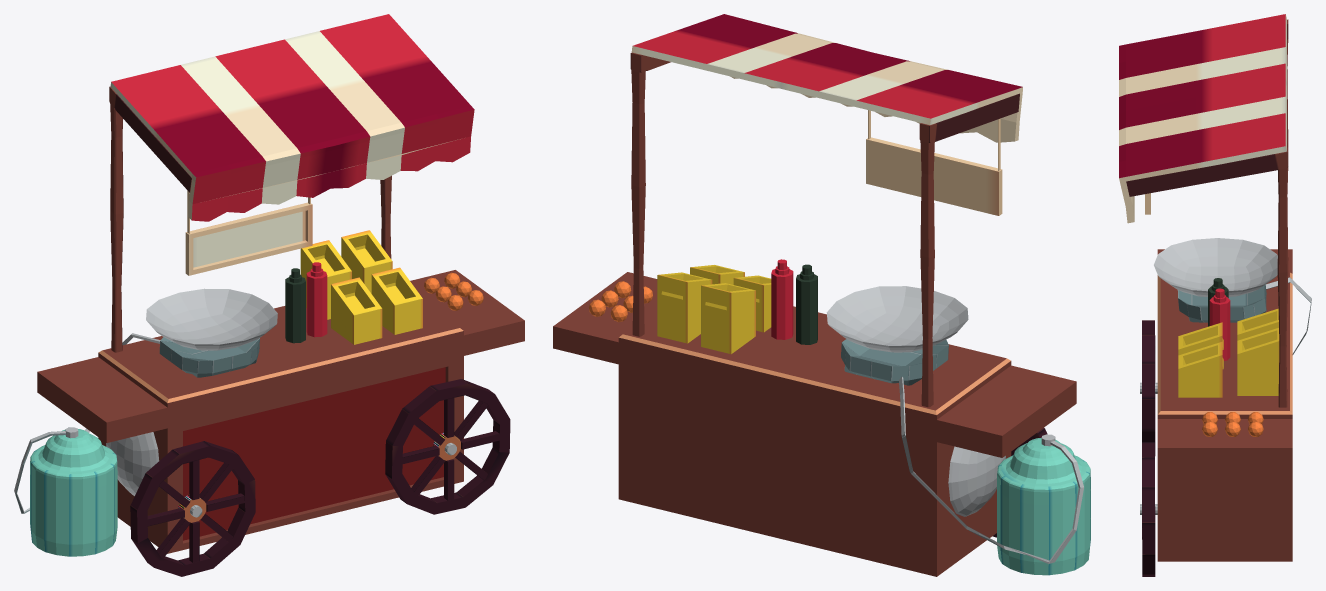
File: street-food-cart.fbx
The picture shows the model from 3 angles, left to right: view 1: azimuth 30°, elevation 25°; view 2: azimuth 150°, elevation 25°; view 3: azimuth 270°, elevation 25°; orthographic projection. The views are drawn at different scales.
Visible parts, largest first — view 1: Cube, Cube.001; view 2: Cube, Cube.001; view 3: Cube.
Boxes of the visible parts, x1,y1,x2,y2 form: Cube: [14, 14, 524, 576]; Cube.001: [30, 429, 117, 556]; Cube: [553, 14, 1083, 576]; Cube.001: [997, 438, 1090, 575]; Cube: [1119, 14, 1311, 576].
Size of the model in its own units: 1141 by 1035 by 422.
